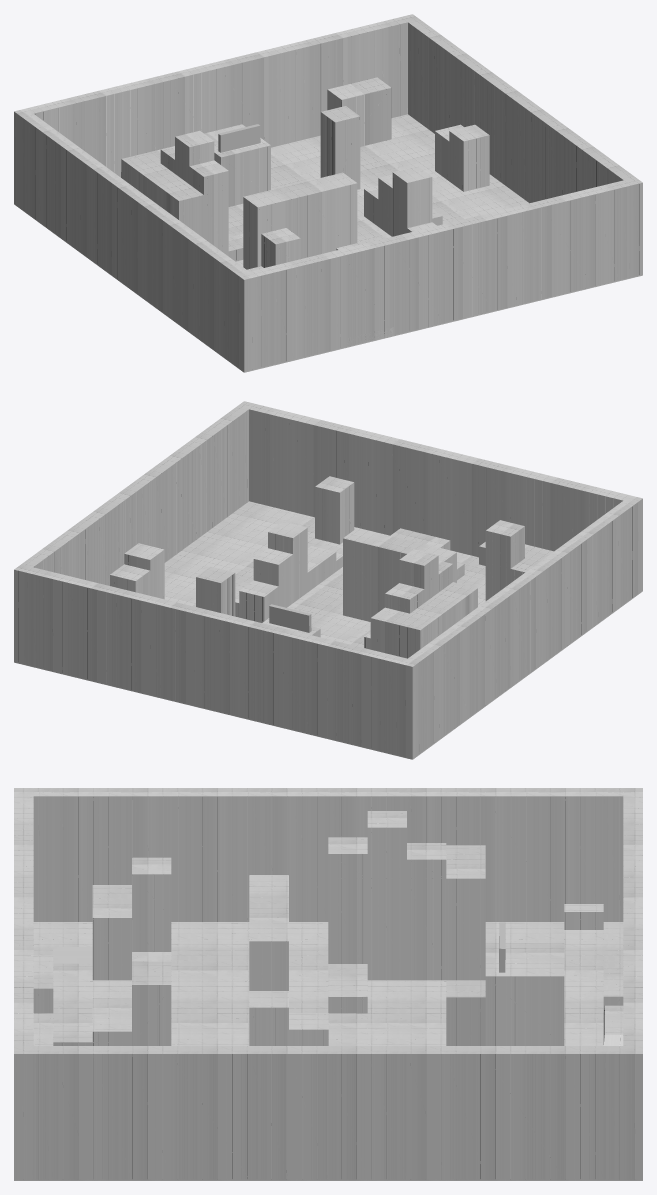
File: FirstMap.obj
3 renders of one model, top to bottom at view 1: azimuth 30°, elevation 25°; view 2: azimuth 150°, elevation 25°; view 3: azimuth 270°, elevation 25°, orthographic. The views are drawn at different scales.
Parts seen in each view (by area): view 1: Cube, Куб; view 2: Cube, Куб; view 3: Cube.
Boxes of the visible parts, <box> form: Cube: <box>14,14,642,372</box>; Куб: <box>218,124,260,152</box>; Cube: <box>14,401,642,759</box>; Куб: <box>269,604,311,632</box>; Cube: <box>14,788,642,1180</box>.
Bounding box in the file's own units: 200 × 53.94 × 200.
